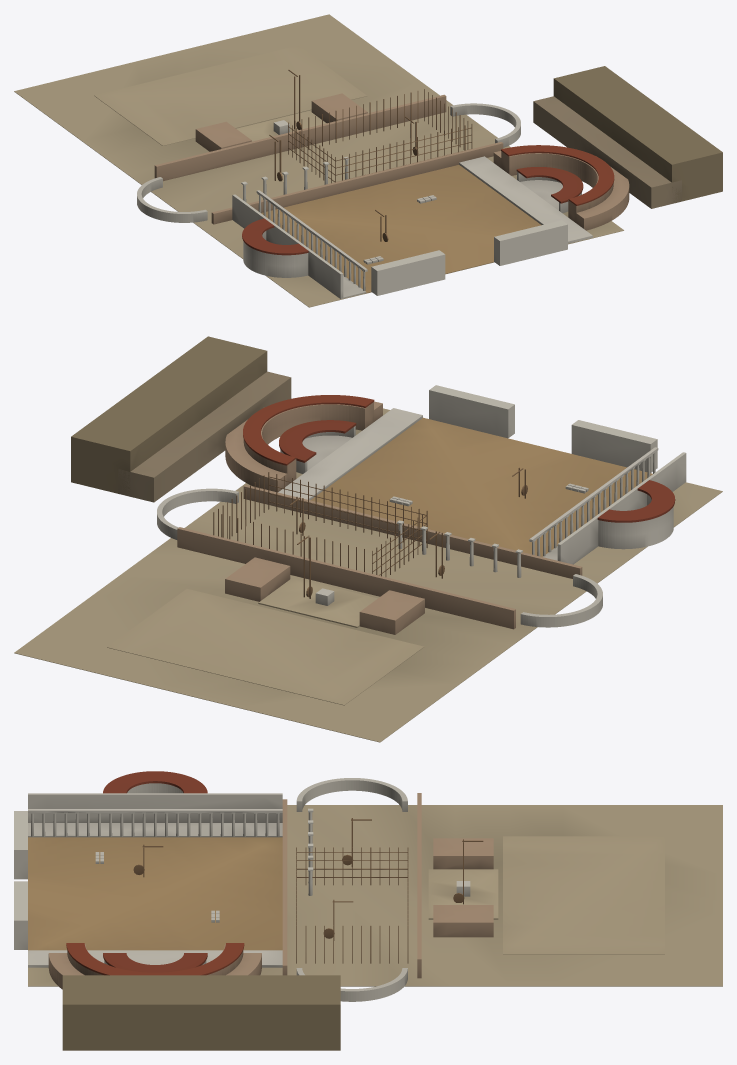
File: forum-of-trajan-construction.glb
3 renders of one model, top to bottom at view 1: azimuth 30°, elevation 25°; view 2: azimuth 150°, elevation 25°; view 3: azimuth 270°, elevation 25°, orthographic. The views are drawn at different scales.
Parts seen in each view (by area): view 1: p0_plaza, p1_markets, p2_earthworks; view 2: p0_plaza, p1_markets, p2_earthworks; view 3: p0_plaza, p1_markets, p2_earthworks.
Part boxes in pixels (box(x1,y1,x2,y2)): p0_plaza: box(14, 14, 623, 307); p1_markets: box(94, 45, 629, 298); p2_earthworks: box(242, 66, 722, 264); p0_plaza: box(14, 408, 722, 742); p1_markets: box(107, 385, 686, 705); p2_earthworks: box(71, 336, 675, 605); p0_plaza: box(28, 805, 722, 986); p1_markets: box(14, 778, 664, 1001); p2_earthworks: box(62, 771, 483, 1050).
Size of the model in its own units: 268 by 30.4 by 306.
